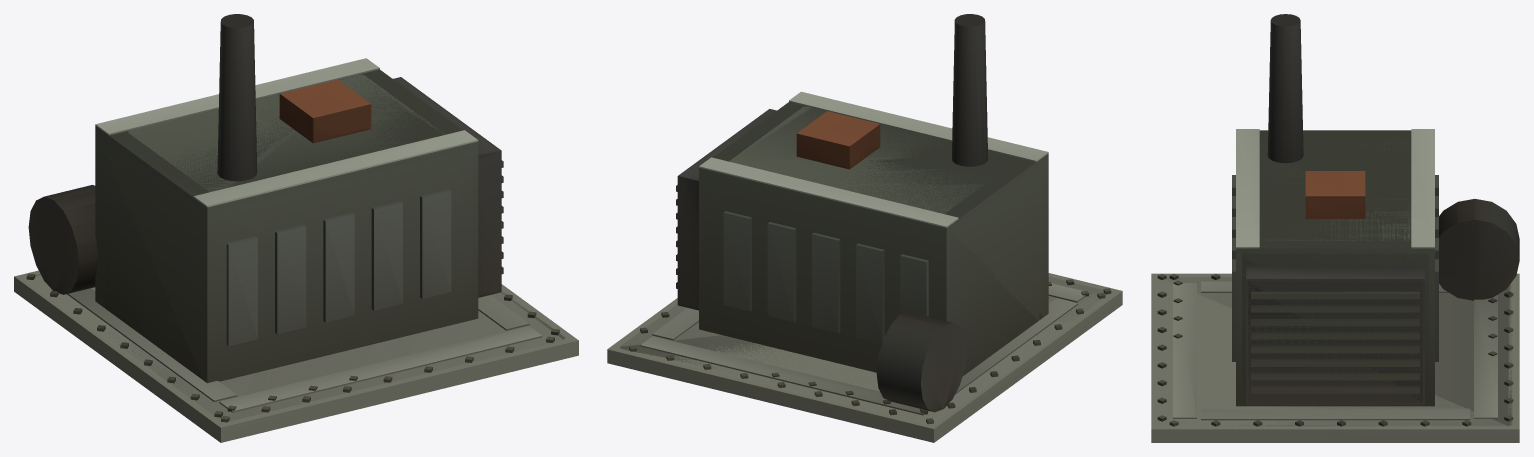
File: neutral_generator.glb
The picture shows the model from 3 angles, left to right: view 1: azimuth 30°, elevation 25°; view 2: azimuth 150°, elevation 25°; view 3: azimuth 270°, elevation 25°; orthographic projection. The views are drawn at different scales.
Visible parts, largest first — view 1: body (×3); view 2: body (×3); view 3: body (×3).
Part boxes in pixels (bbox=[...]): body (×3): bbox=[14, 14, 578, 442]; body (×3): bbox=[607, 14, 1122, 442]; body (×3): bbox=[1151, 14, 1519, 442].
Size of the model in its own units: 3.7 by 3.4 by 3.7.
